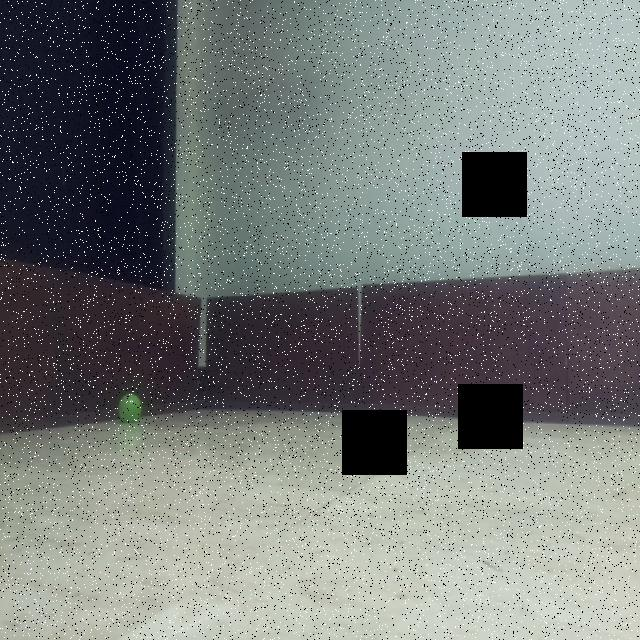ball: (113, 389, 149, 427)
